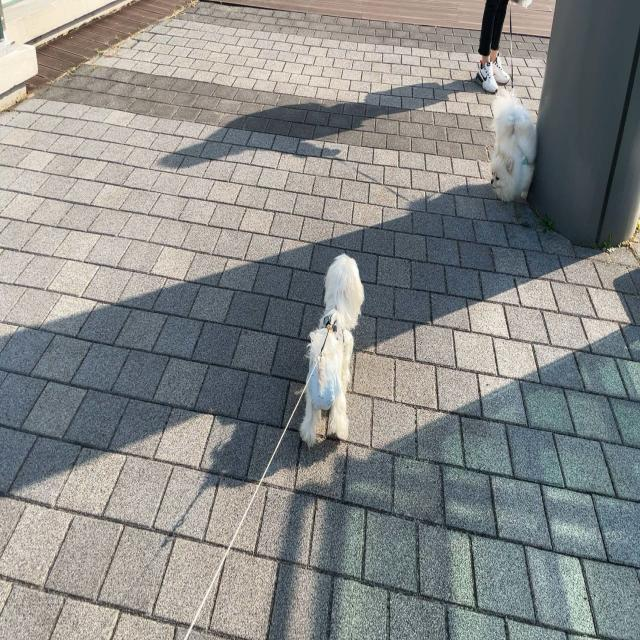Dog: (298, 252, 366, 449)
Leashed_Dog: (490, 0, 541, 206)
